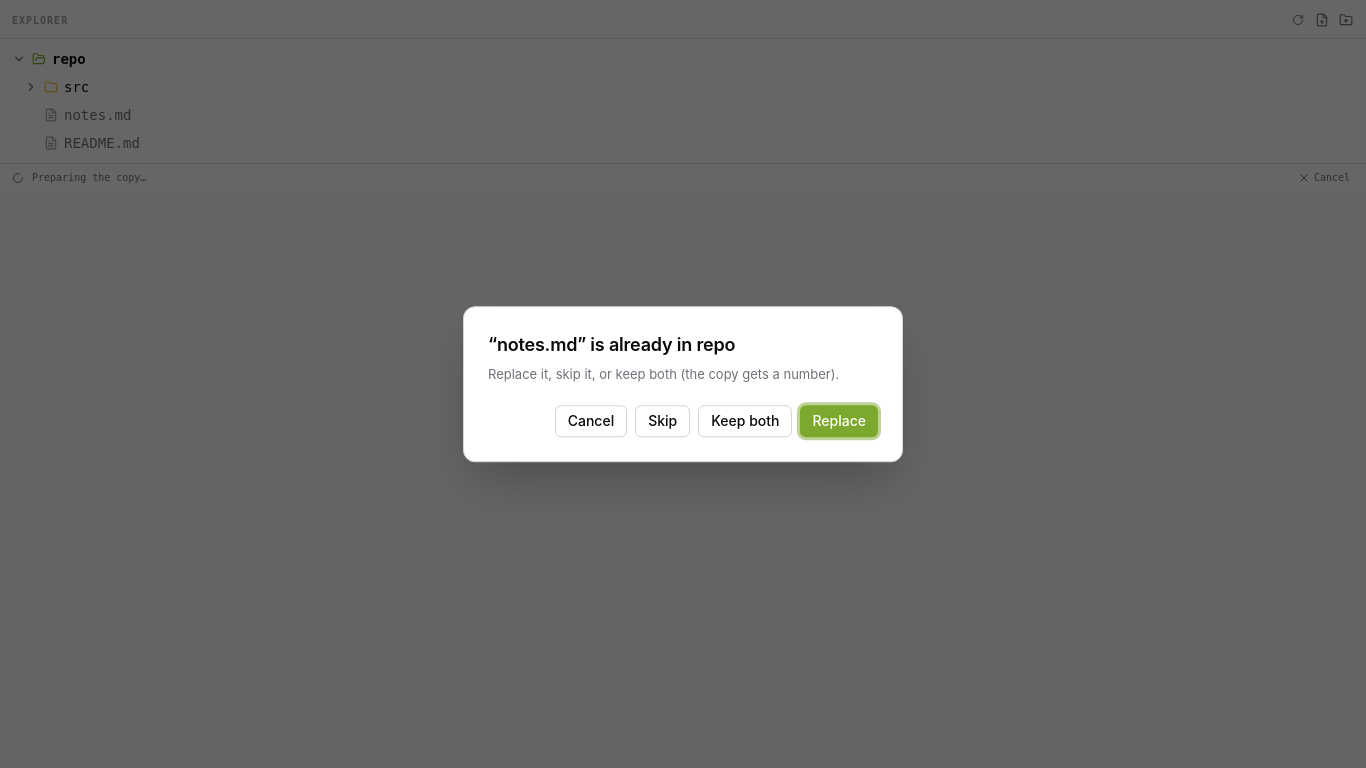
Test: dropping files from this computer › cancelling the clash prompt copies nothing
This screenshot has width=1366, height=768.
Earlier steps of the test are not shown.
Expected: the text "src" is shown, [64,78,89,94]
Click the button "Cancel" at {"x": 591, "y": 421}, box [555,405,627,437]
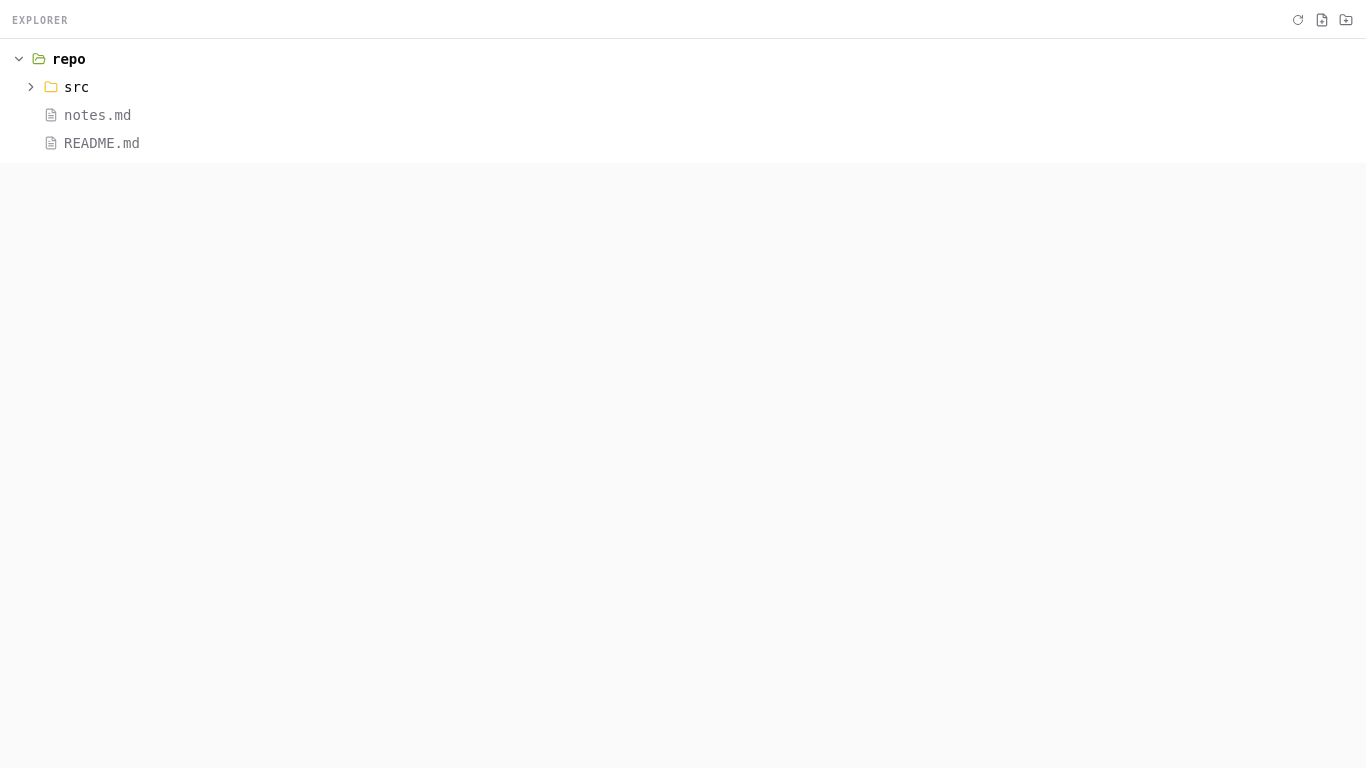
Expected: the message with test id "explorer-upload" is gone
